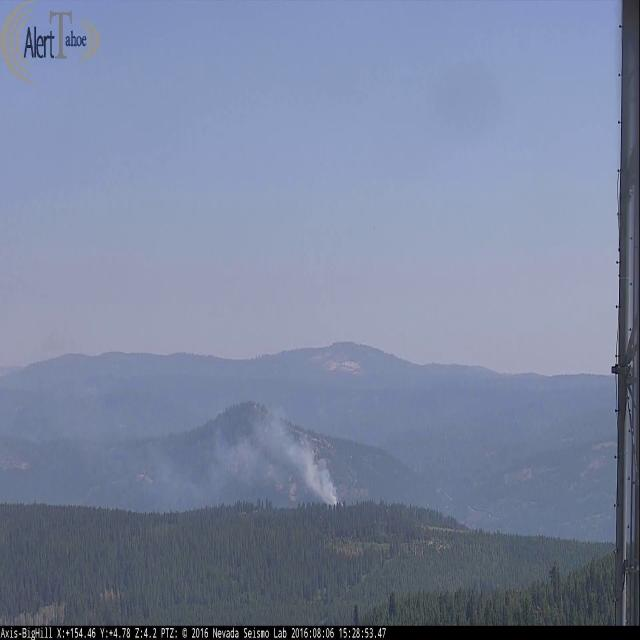smoke: (155, 414, 340, 510)
